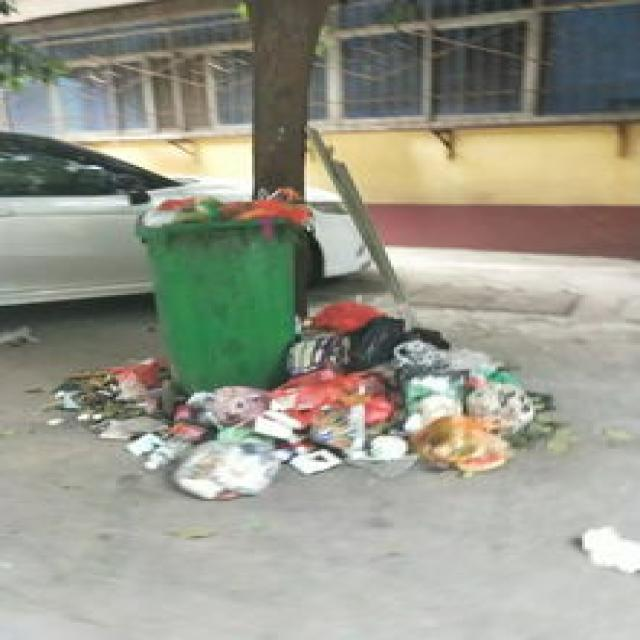garbage: (29, 299, 573, 499)
overflow: (128, 182, 322, 391)
